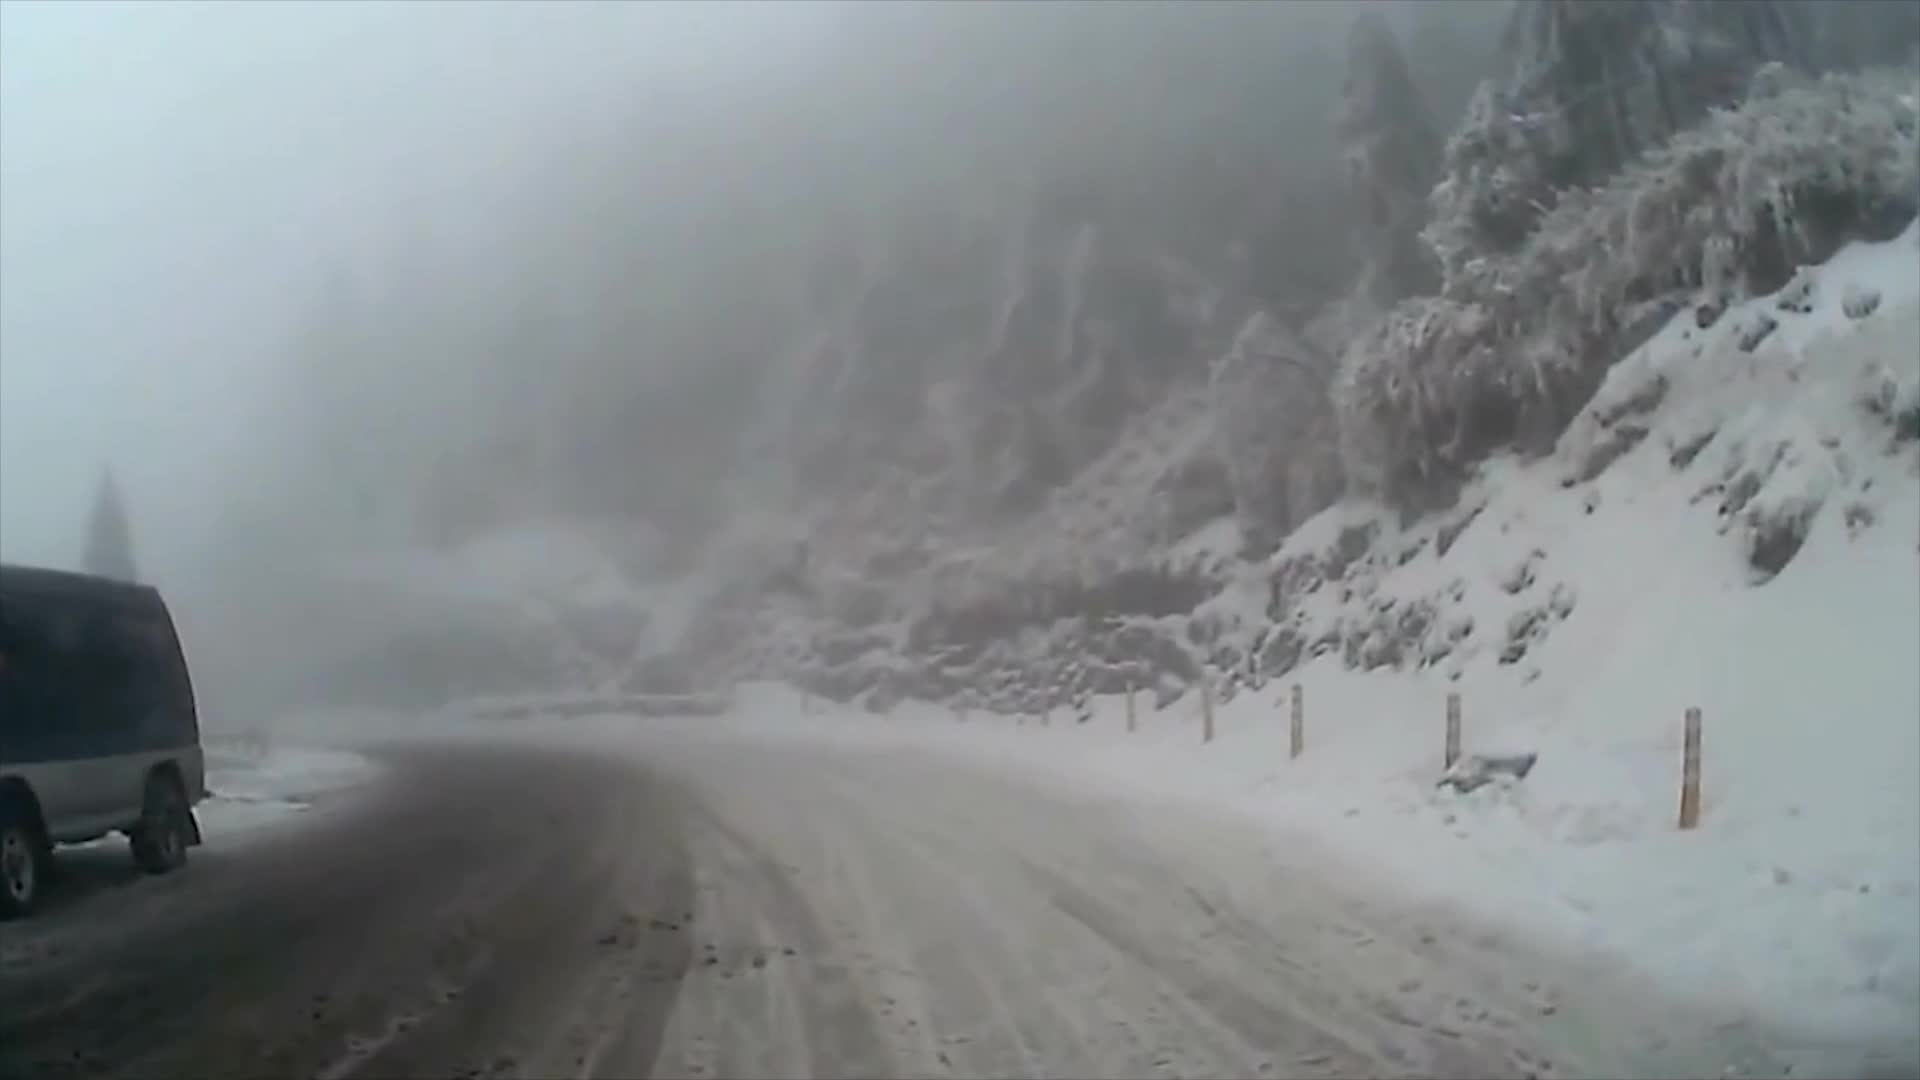vehicle: (0, 563, 212, 913)
